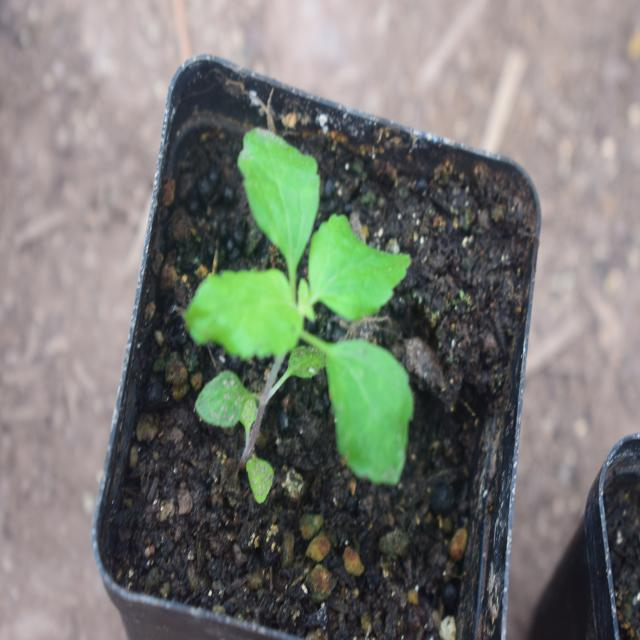billygoat_weed: (194, 130, 407, 498)
